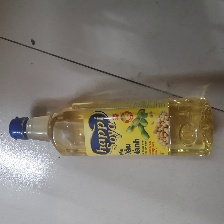Happy Soya: (8, 96, 214, 158)
